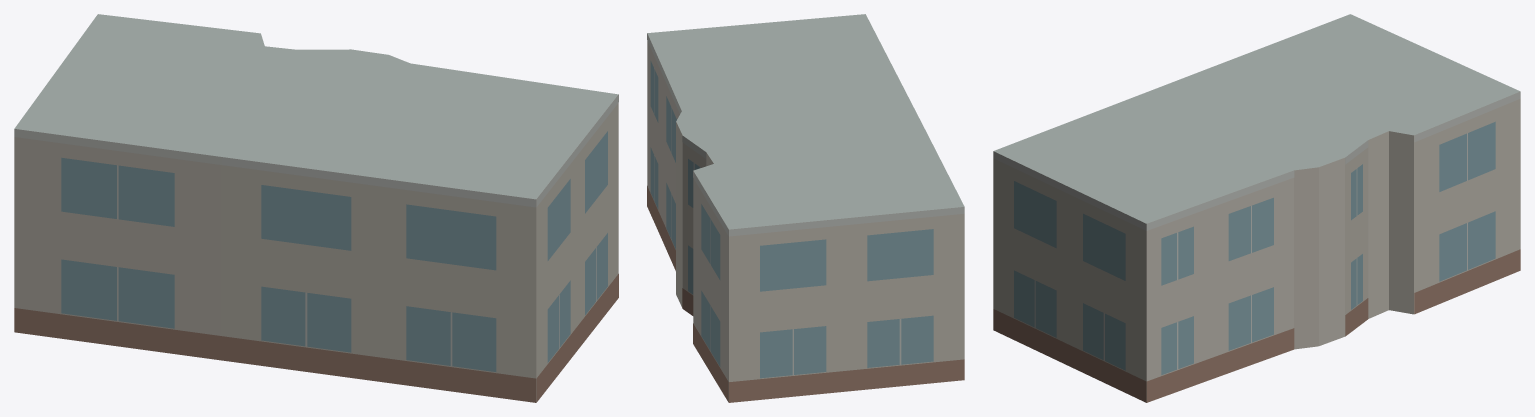
The model's file is survey-upis-32619265.glb.
3 views of the same model, side by side, from view 1: azimuth 30°, elevation 25°; view 2: azimuth 150°, elevation 25°; view 3: azimuth 270°, elevation 25° (orthographic). The views are drawn at different scales.
Visible parts, largest first — view 1: survey-upis-32619265.tmp; view 2: survey-upis-32619265.tmp; view 3: survey-upis-32619265.tmp.
Boxes of the visible parts, x1,y1,x2,y2 form: survey-upis-32619265.tmp: (14,14,618,402); survey-upis-32619265.tmp: (647,14,964,402); survey-upis-32619265.tmp: (993,14,1520,402).
Size of the model in its own units: 15.34 by 6.1 by 16.29.
